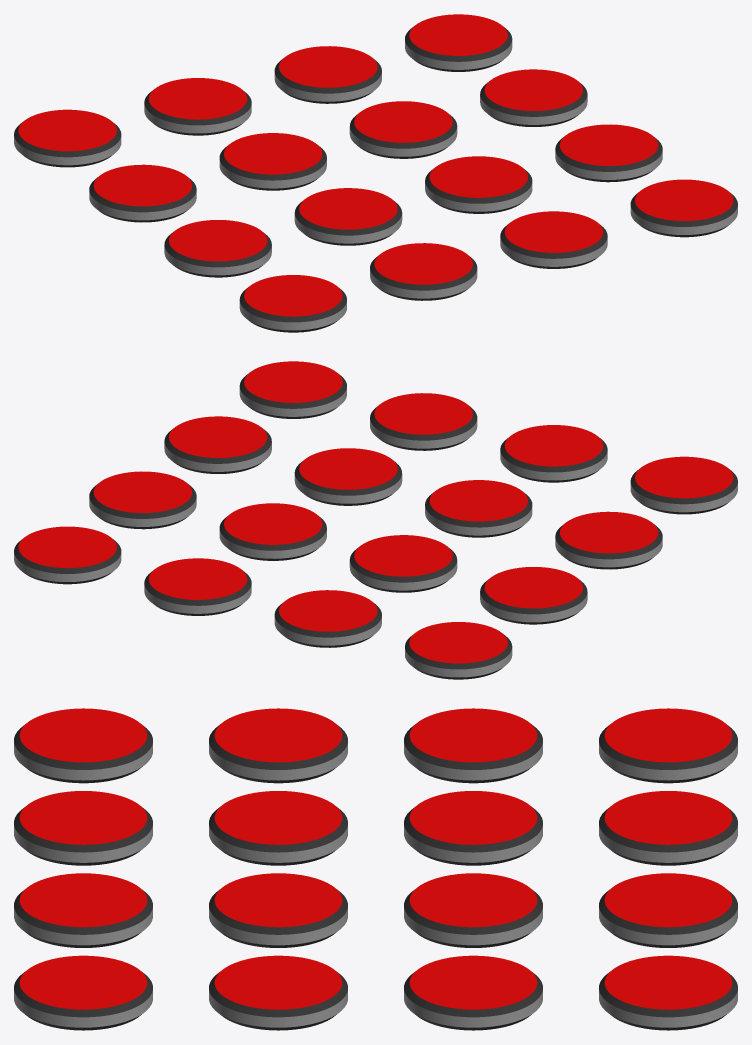
File: Pieces.fbx
3 renders of one model, top to bottom at view 1: azimuth 30°, elevation 25°; view 2: azimuth 150°, elevation 25°; view 3: azimuth 270°, elevation 25°, orthographic. The views are drawn at different scales.
Parts seen in each view (by area): view 1: Piece_1, Piece_16, Piece_2, Piece_5, Piece_12, Piece_15, Piece_6, Piece_11, Piece_7, Piece_10, Piece_8, Piece_9 (+4 smaller); view 2: Piece_4, Piece_13, Piece_3, Piece_8, Piece_9, Piece_14, Piece_7, Piece_10, Piece_6, Piece_11, Piece_5, Piece_12 (+4 smaller); view 3: Piece_1, Piece_4, Piece_13, Piece_16, Piece_5, Piece_8, Piece_9, Piece_12, Piece_2, Piece_3, Piece_6, Piece_7 (+4 smaller).
Boxes of the visible parts, x1,y1,x2,y2 form: Piece_1: (630, 179, 737, 237); Piece_16: (14, 109, 121, 167); Piece_2: (500, 211, 607, 268); Piece_5: (555, 124, 662, 182); Piece_12: (89, 164, 196, 222); Piece_15: (144, 78, 251, 135); Piece_6: (425, 156, 532, 213); Piece_11: (219, 133, 326, 190); Piece_7: (294, 188, 402, 245); Piece_10: (349, 101, 457, 158); Piece_8: (164, 220, 271, 277); Piece_9: (480, 69, 587, 126); Piece_4: (630, 456, 737, 514); Piece_13: (14, 526, 121, 584); Piece_3: (500, 425, 607, 482); Piece_8: (555, 511, 662, 569); Piece_9: (89, 471, 196, 529); Piece_14: (144, 558, 251, 615); Piece_7: (425, 480, 532, 537); Piece_10: (219, 503, 326, 560); Piece_6: (294, 448, 402, 505); Piece_11: (349, 535, 457, 592); Piece_5: (164, 416, 271, 473); Piece_12: (480, 567, 587, 624); Piece_1: (14, 955, 152, 1030); Piece_4: (14, 708, 152, 783); Piece_13: (599, 955, 737, 1030); Piece_16: (599, 708, 737, 783); Piece_5: (209, 955, 347, 1030); Piece_8: (209, 708, 347, 783); Piece_9: (404, 955, 542, 1030); Piece_12: (404, 708, 542, 783); Piece_2: (14, 873, 152, 947); Piece_3: (14, 791, 152, 865); Piece_6: (209, 873, 347, 947); Piece_7: (209, 791, 347, 865).
Bounding box in the file's own units: 1040 × 33 × 1040.
